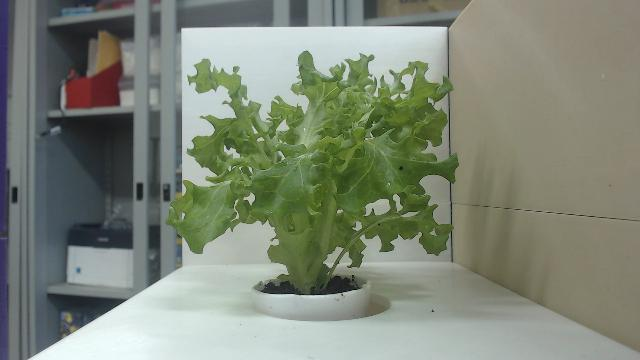Harvest Stage: (164, 48, 460, 296)
